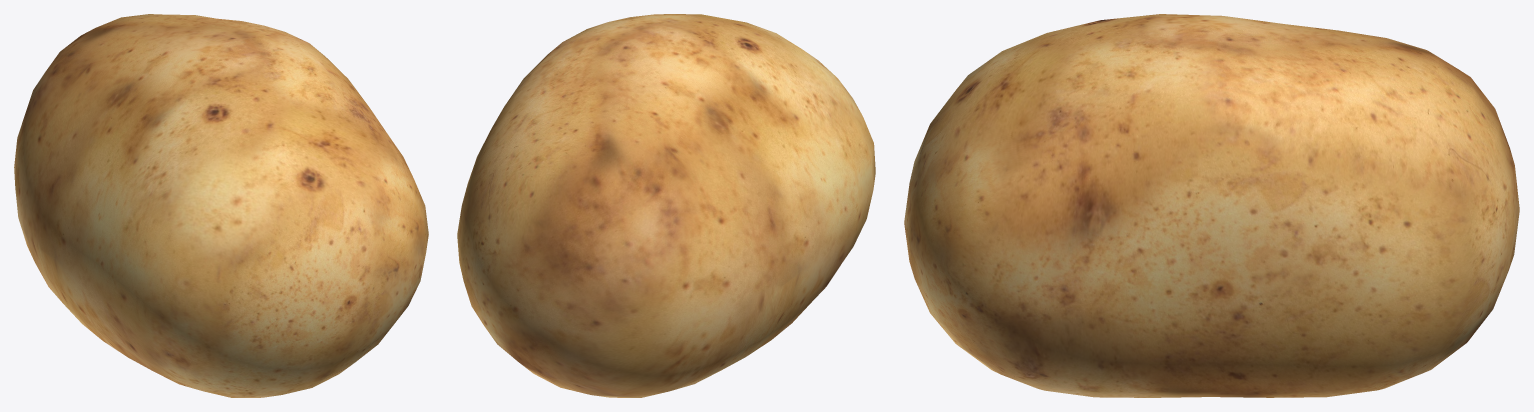
File: potato.glb
The picture shows the model from 3 angles, left to right: view 1: azimuth 30°, elevation 25°; view 2: azimuth 150°, elevation 25°; view 3: azimuth 270°, elevation 25°; orthographic projection. The views are drawn at different scales.
Parts seen in each view (by area): view 1: Cube; view 2: Cube; view 3: Cube.
Boxes of the visible parts, left/top/right/bottom form: Cube: left=14, top=14, right=428, bottom=397; Cube: left=457, top=14, right=875, bottom=397; Cube: left=904, top=14, right=1519, bottom=397.
Bounding box in the file's own units: 1.5 × 1.52 × 2.32.
1 material, 1 textured.
